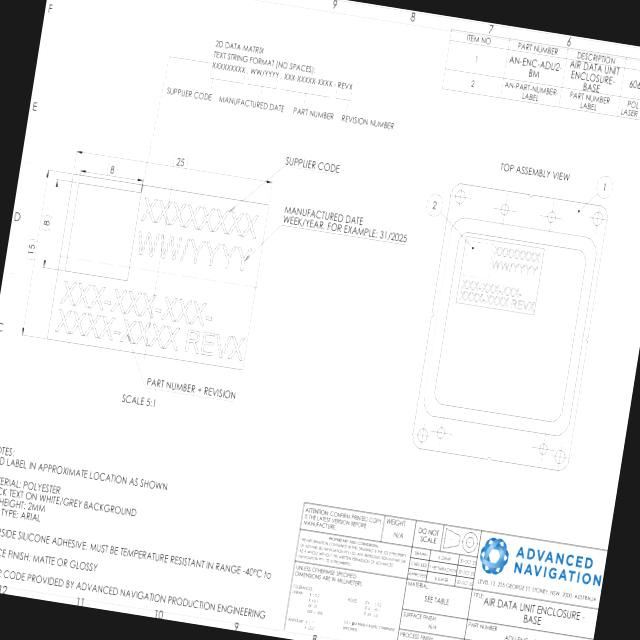dimension: (170, 152, 191, 171), (24, 238, 38, 262), (40, 213, 53, 234), (105, 161, 120, 178)
